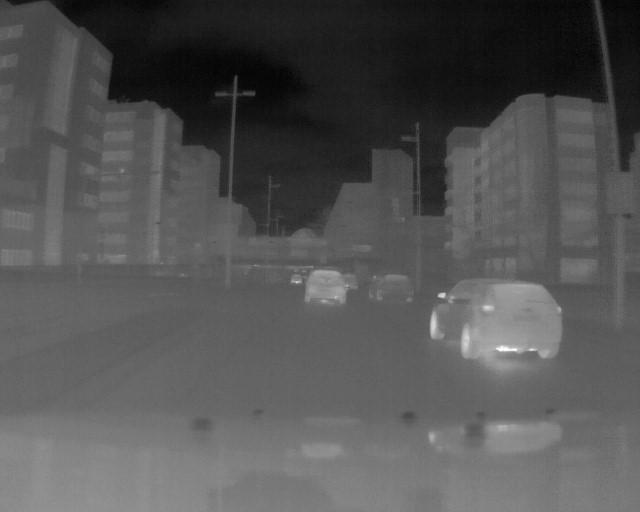car: (427, 277, 564, 362), (365, 270, 415, 305), (304, 268, 347, 304), (288, 271, 304, 287)
